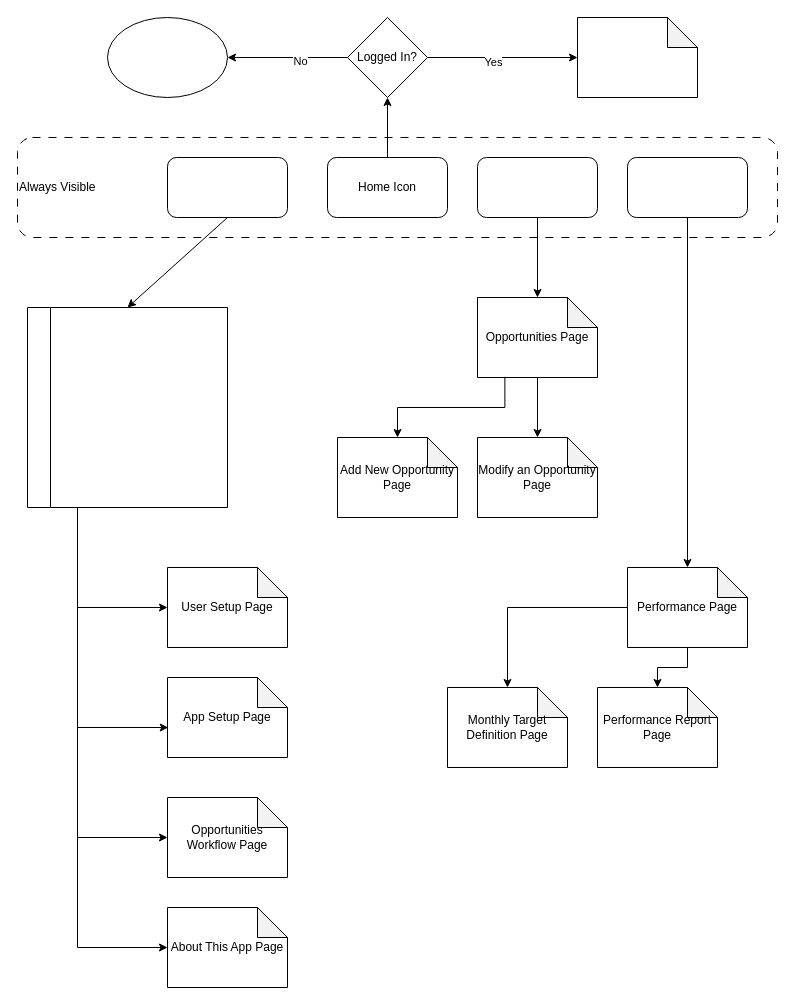
Some shapes in this 795 by 1005 pixel diagram are drawn without their labels. The centre of each missing label's shape, as x and y in pixels:
"Dashboard Page" goes at [637,57].
"Left Menu" goes at [227,187].
"Left Menu List" goes at [127,407].
"Login Page" goes at [167,57].
"Opportunities Icon" goes at [537,187].
"Performance Icon" goes at [687,187].
